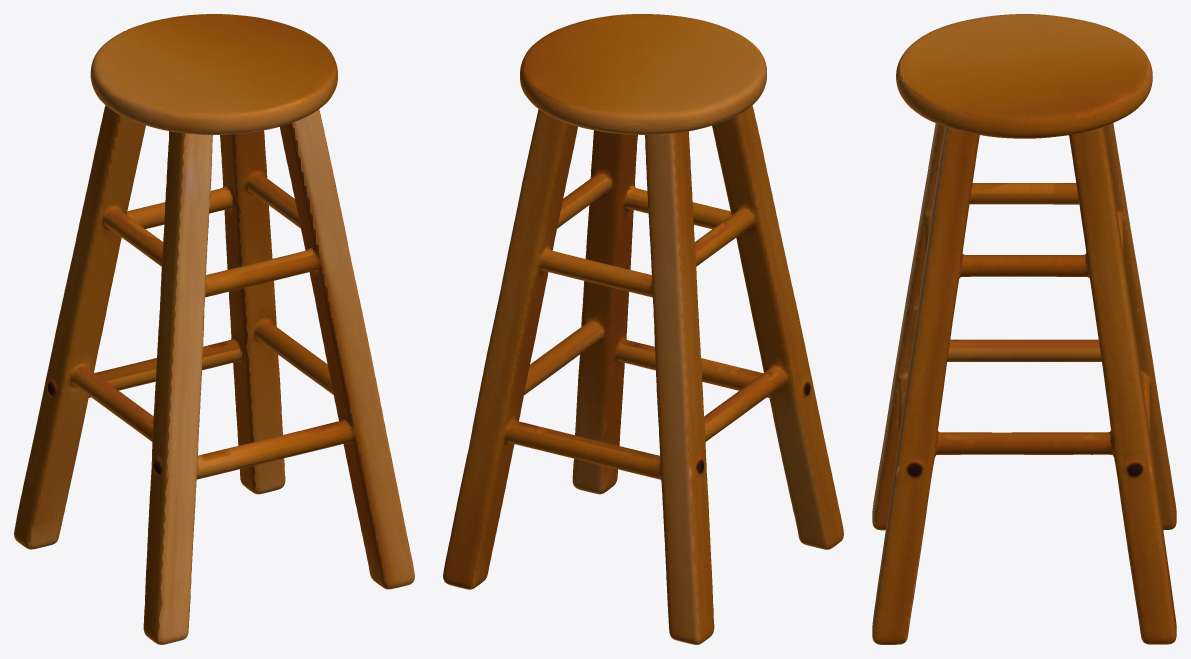
Rendered from stool__stool#4.glb.
3 renders of one model, left to right at view 1: azimuth 30°, elevation 25°; view 2: azimuth 150°, elevation 25°; view 3: azimuth 270°, elevation 25°, orthographic. The views are drawn at different scales.
Visible parts, largest first — view 1: tmp8htyb5kl.ply; view 2: tmp8htyb5kl.ply; view 3: tmp8htyb5kl.ply.
Part boxes in pixels (box(x1,y1,x2,y2)): tmp8htyb5kl.ply: box(14, 14, 414, 644); tmp8htyb5kl.ply: box(443, 14, 843, 644); tmp8htyb5kl.ply: box(872, 14, 1176, 644).
Bounding box in the file's own units: 1.08 × 1.99 × 1.06.
Materials: 1 (1 with a texture image).
